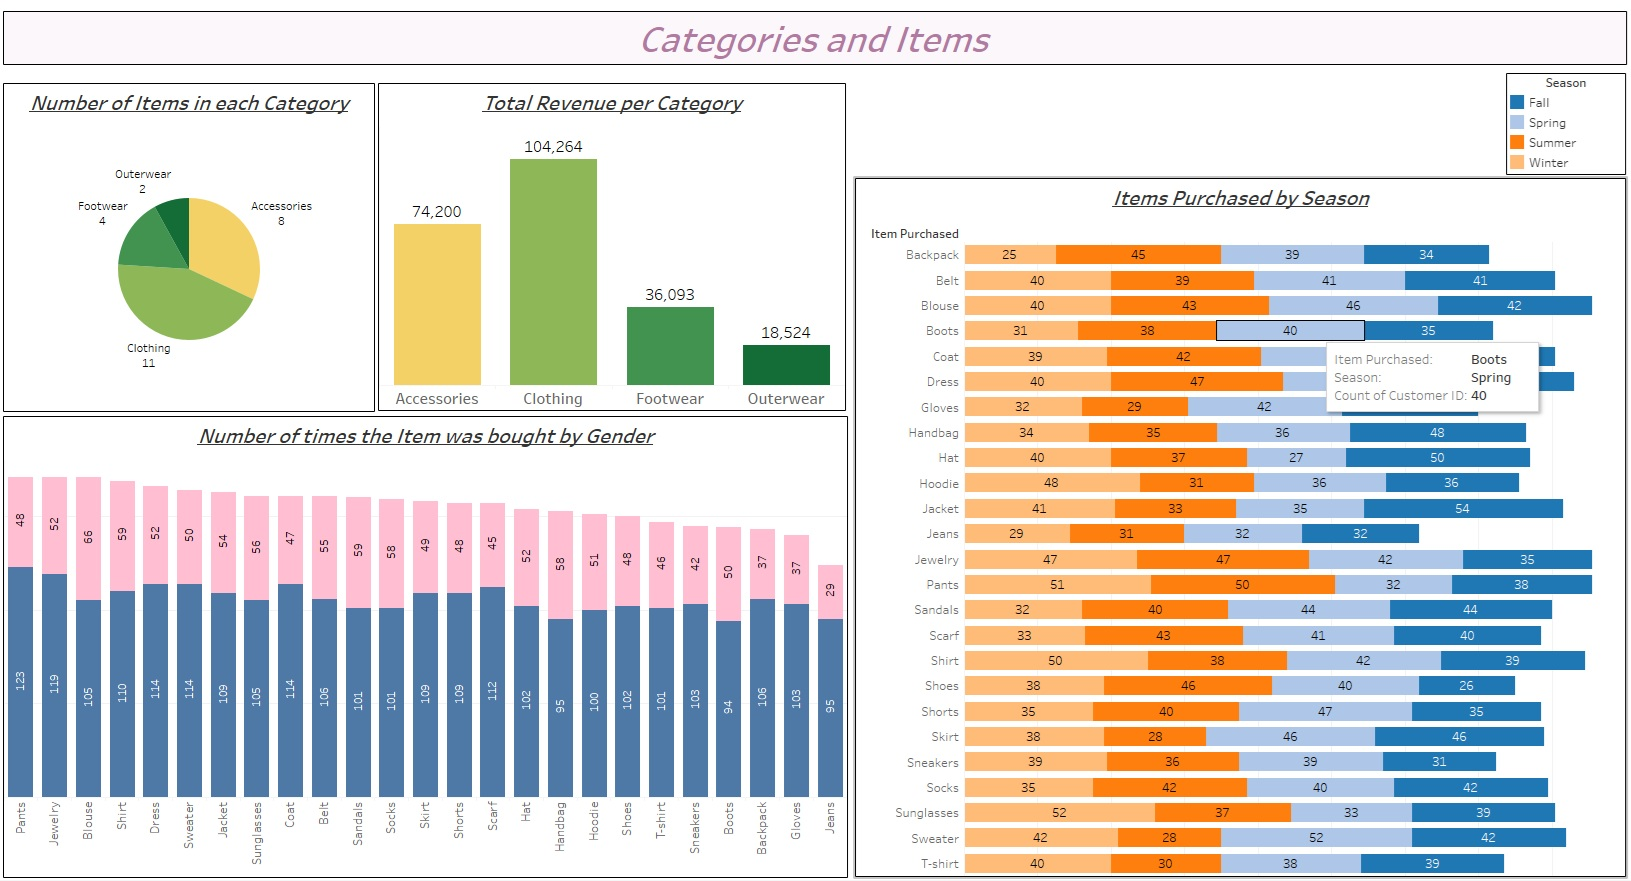

What the dashboard file says about the page in this screenshot:
{"tool":"tableau","page":{"name":"Dashboard 2","canvas":[1654,890],"ordinal":1},"visuals":[{"type":"text","box":[13,21,1624,54]},{"type":"legend","title":"Items Purchased by Season","param":"[federated.1e5aqh70777jir15x643o1sqy17n].[none:Season:nk]","box":[1516,83,120,102]},{"type":"worksheet","title":"Categories & Items","mark":"Pie","box":[13,93,372,329]},{"type":"worksheet","title":"Total Revenue per Category","mark":"Automatic","rows":["Purchase_Amount_USD"],"cols":["Category"],"box":[388,93,468,328]},{"type":"worksheet","title":"Items Purchased by Season","mark":"Automatic","rows":["Item_Purchased"],"cols":["Customer_ID"],"box":[865,188,771,699]},{"type":"worksheet","title":"Most buyable items","mark":"Automatic","rows":["Customer_ID"],"cols":["Item_Purchased"],"box":[13,426,845,462]}]}

Visuals, with their boxes in screenshot pixels (x1, y1, x2, y2), scaled from the page's 1654x890 canvas onto the 1631x881 screenshot:
text: box=[13, 21, 1614, 74]
"Items Purchased by Season" legend: box=[1495, 82, 1613, 183]
"Categories & Items" worksheet (Pie marks): box=[13, 92, 380, 418]
"Total Revenue per Category" worksheet: box=[383, 92, 844, 417]
"Items Purchased by Season" worksheet: box=[853, 186, 1613, 878]
"Most buyable items" worksheet: box=[13, 422, 846, 879]
